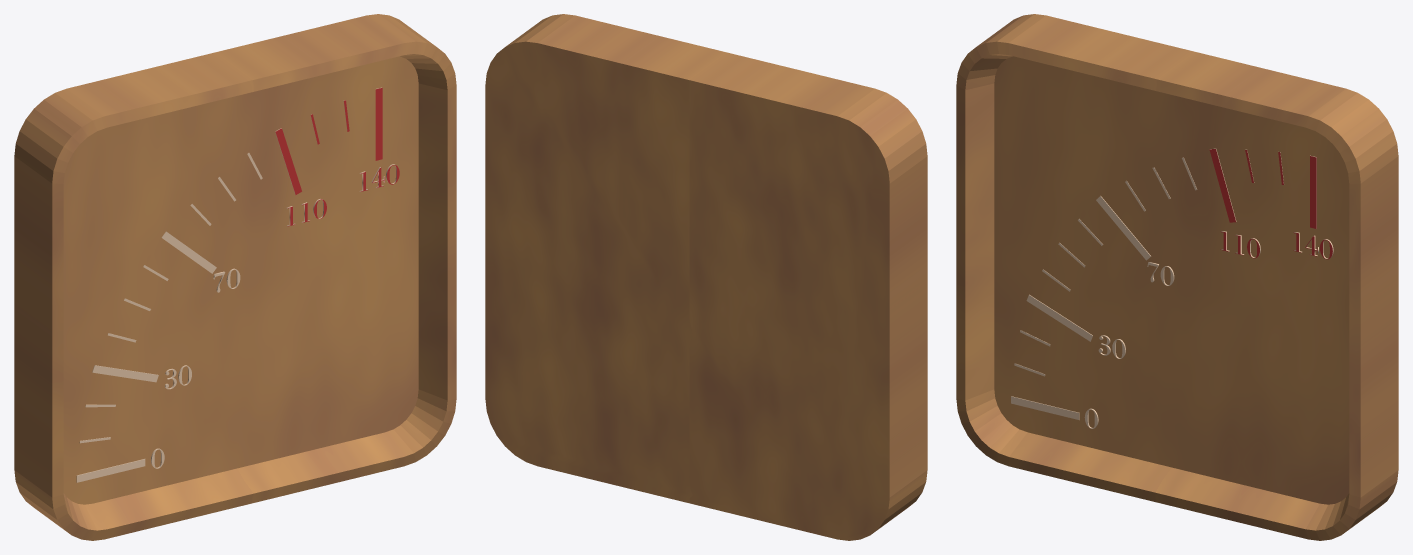
The model's file is new pressure meter.fbx.
The picture shows the model from 3 angles, left to right: view 1: azimuth 30°, elevation 25°; view 2: azimuth 150°, elevation 25°; view 3: azimuth 330°, elevation 25°; orthographic projection.
Visible parts, largest first — view 1: pressuremeter; view 2: pressuremeter; view 3: pressuremeter.
Part boxes in pixels (box(x1,y1,x2,y2)): pressuremeter: box(14, 14, 456, 540); pressuremeter: box(485, 14, 927, 540); pressuremeter: box(956, 14, 1398, 540).
Bounding box in the file's own units: 172 × 172 × 28.8.
Materials: 3 (1 with a texture image).
